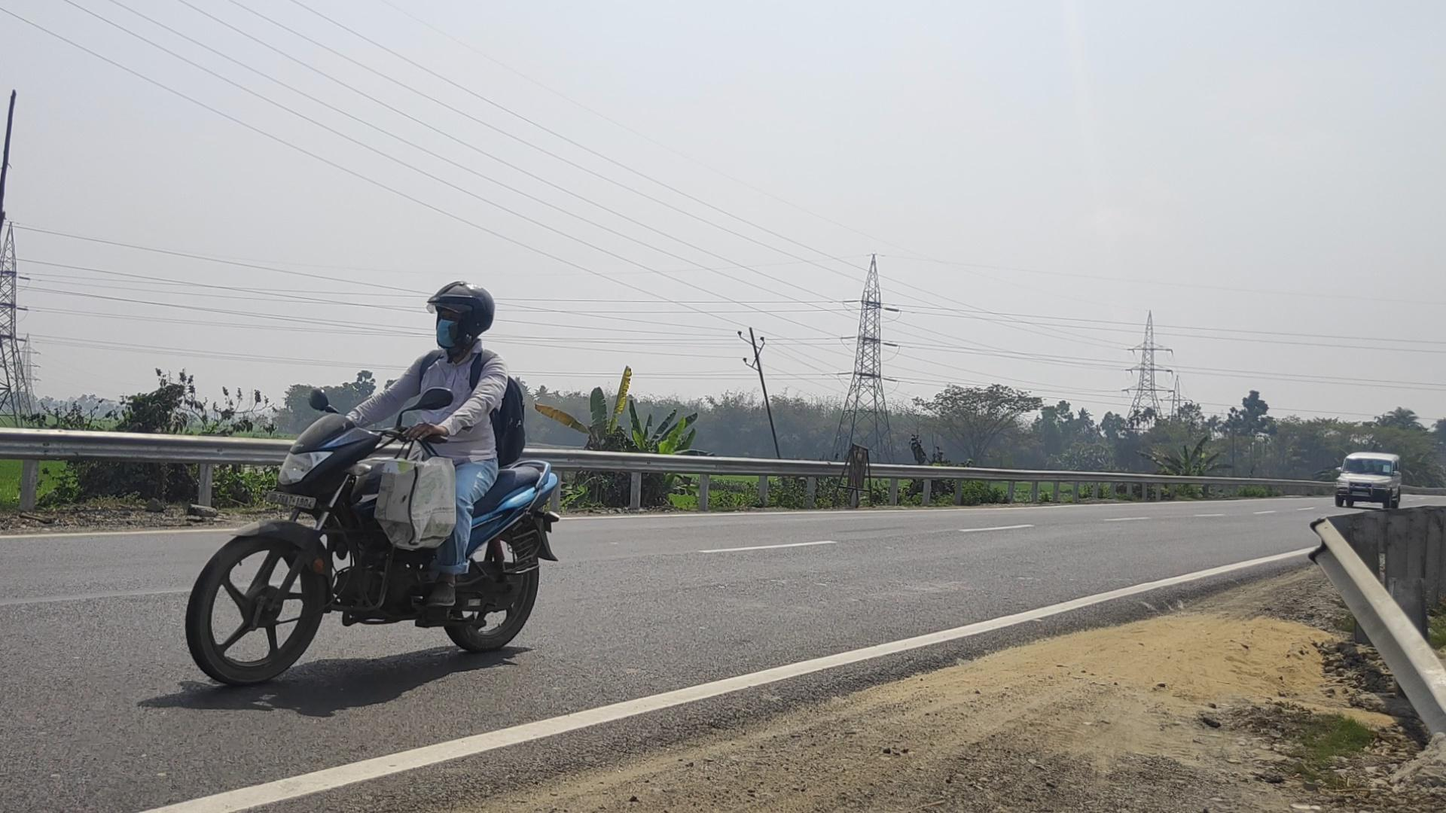bike: (186, 281, 560, 687)
car: (1335, 452, 1402, 510)
